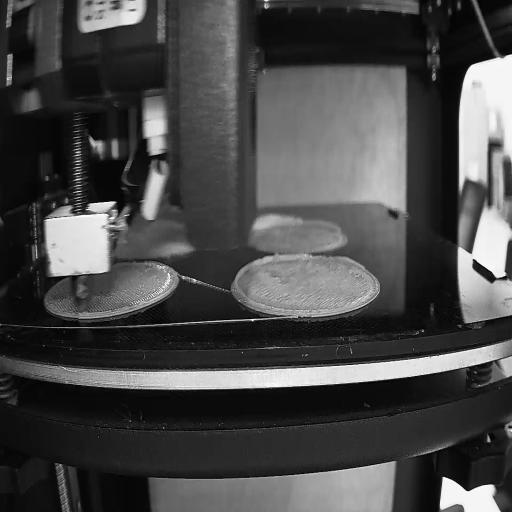over_extrusion: (234, 252, 315, 315), (246, 211, 306, 245), (307, 216, 343, 237), (331, 252, 365, 272)
